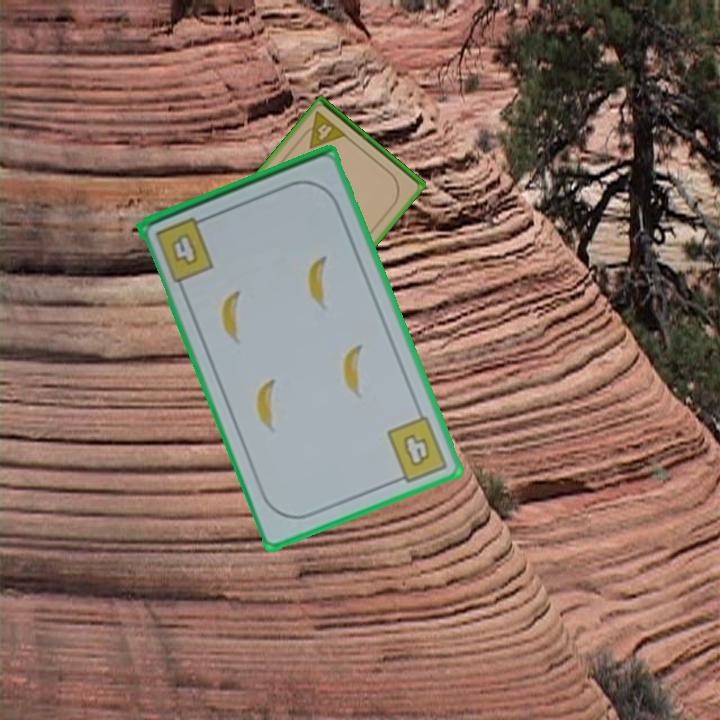4b: (383, 412, 451, 487), (152, 213, 218, 285)
4p: (296, 108, 350, 152)
